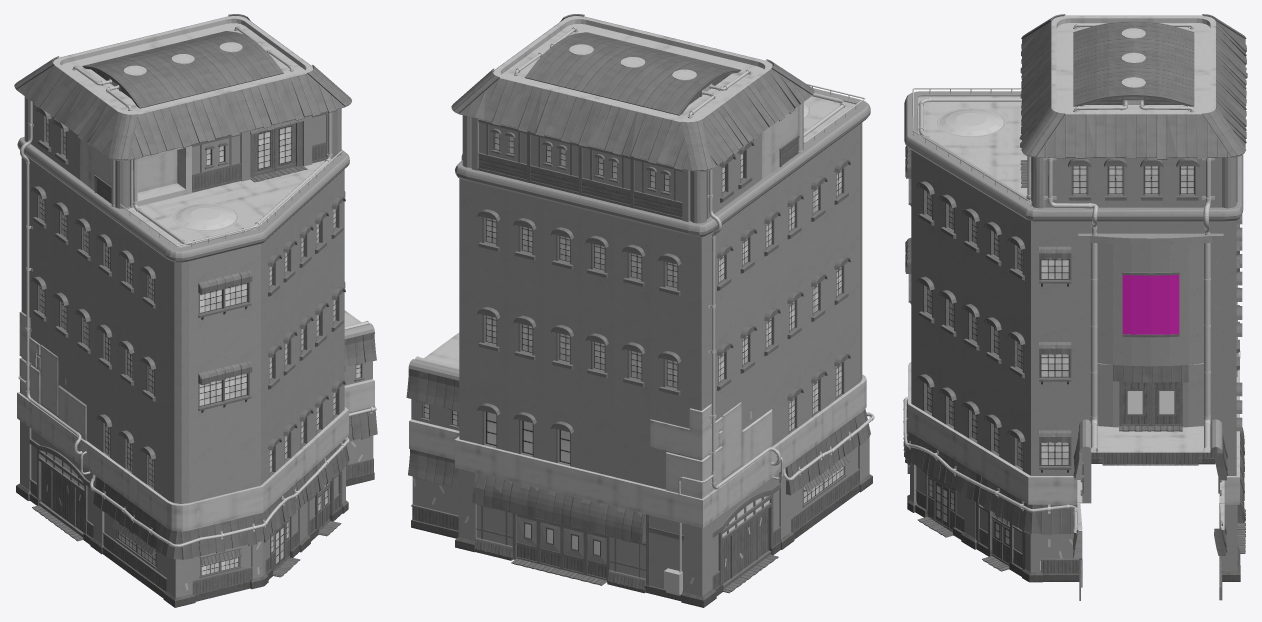
File: SM_ENV_KNVLLG_AreaG_Building_A.mo.fbx
The picture shows the model from 3 angles, left to right: view 1: azimuth 30°, elevation 25°; view 2: azimuth 150°, elevation 25°; view 3: azimuth 270°, elevation 25°; orthographic projection. The views are drawn at different scales.
Parts seen in each view (by area): view 1: SM_ENV_KNVLLG_AreaG_Building_A.mo; view 2: SM_ENV_KNVLLG_AreaG_Building_A.mo; view 3: SM_ENV_KNVLLG_AreaG_Building_A.mo.
Boxes of the visible parts, x1,y1,x2,y2 form: SM_ENV_KNVLLG_AreaG_Building_A.mo: (14,14,377,607); SM_ENV_KNVLLG_AreaG_Building_A.mo: (406,14,874,607); SM_ENV_KNVLLG_AreaG_Building_A.mo: (903,14,1247,600).
Size of the model in its own units: 20.56 by 30.01 by 20.12.
